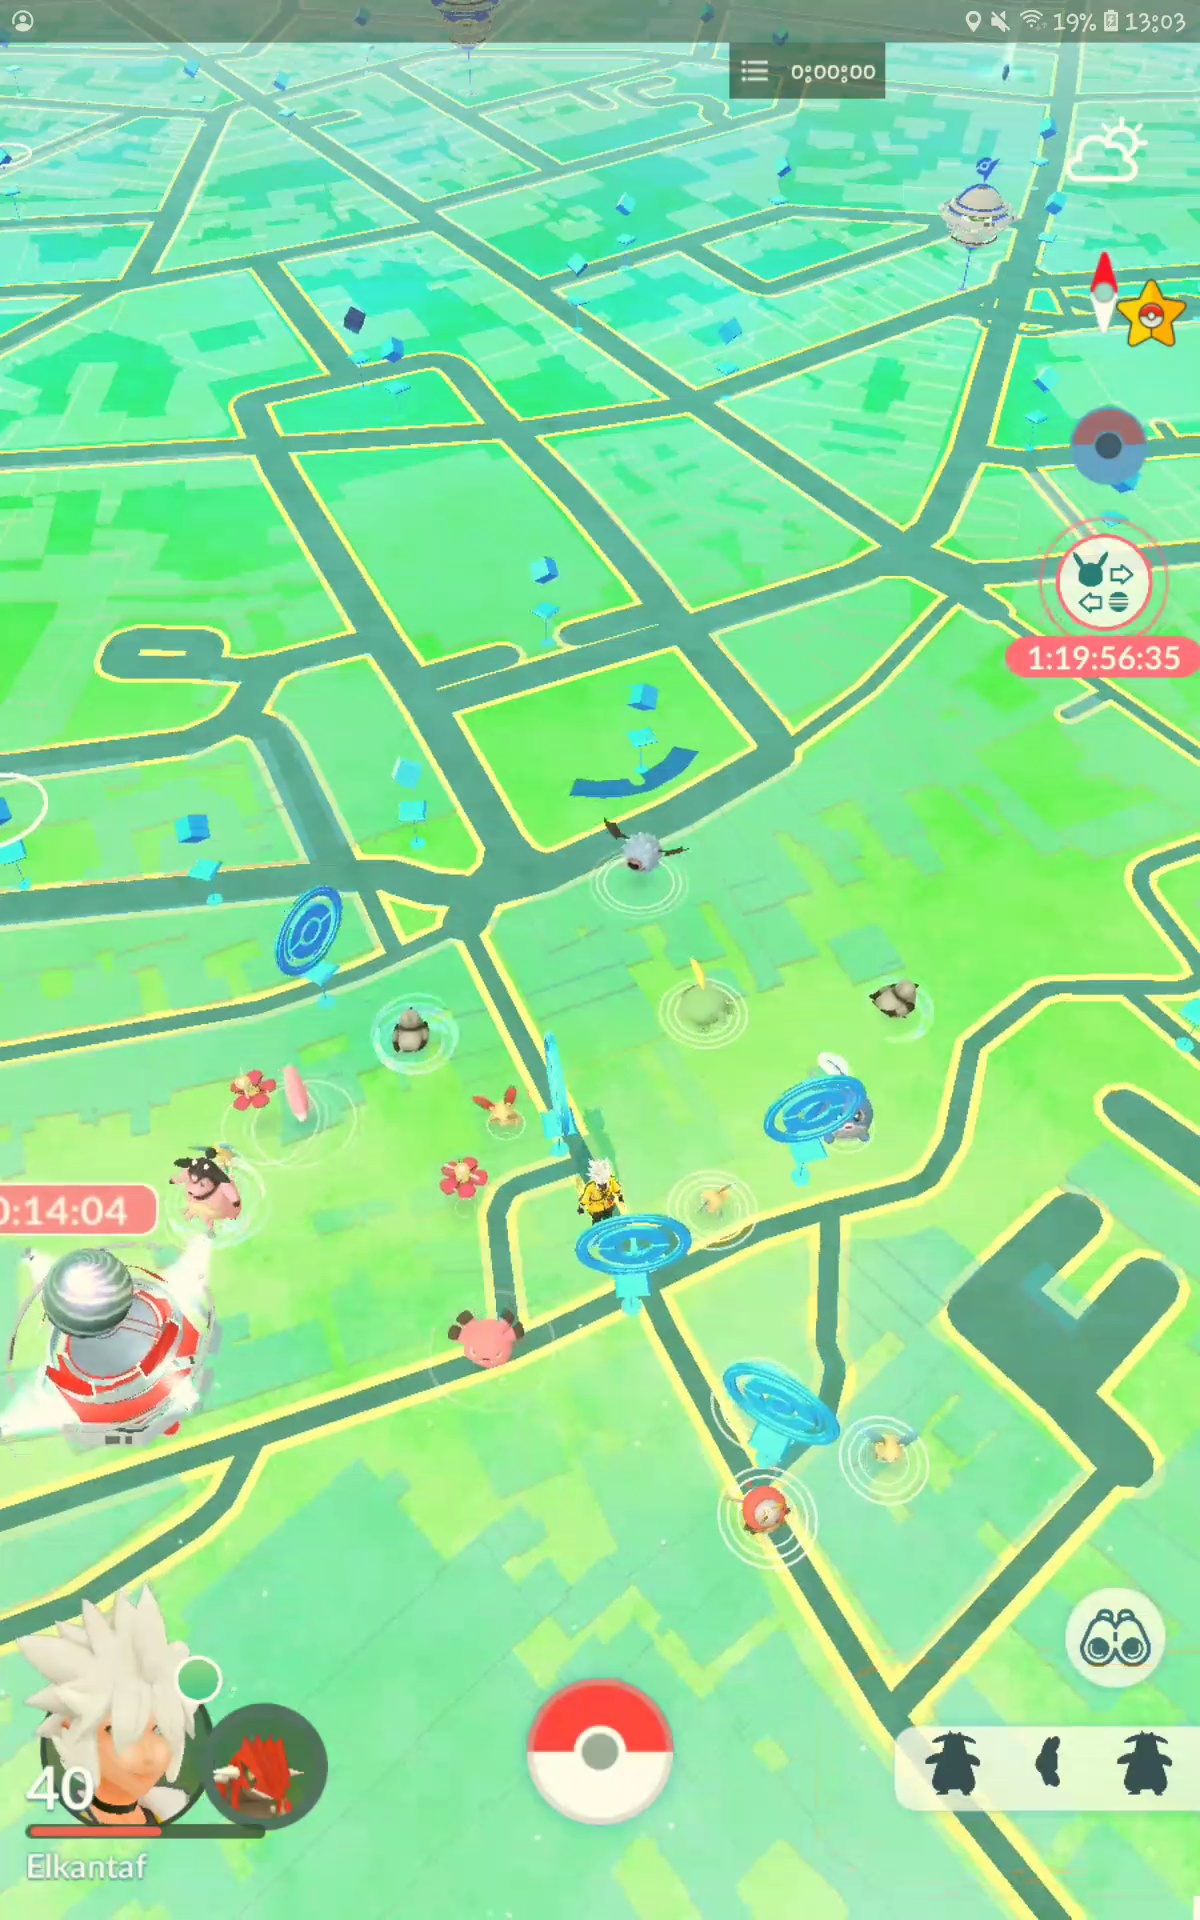Pokemon: (668, 951, 747, 1045), (444, 1302, 535, 1380), (590, 813, 700, 876), (162, 1154, 247, 1232), (859, 1414, 929, 1475), (733, 1480, 796, 1543), (470, 1075, 527, 1140), (865, 975, 933, 1027), (384, 1004, 438, 1064), (690, 1169, 745, 1227), (438, 1151, 492, 1201), (223, 1067, 281, 1111), (276, 1057, 311, 1129), (214, 1145, 238, 1169)
